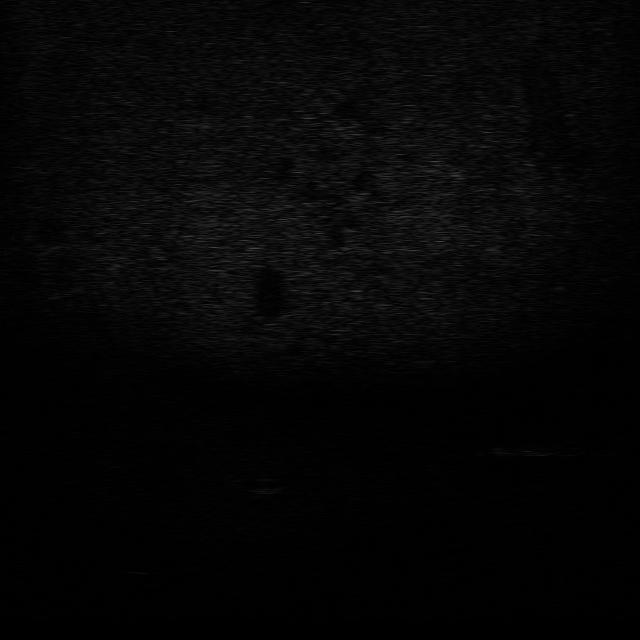ball: (249, 475, 286, 496)
human body: (482, 433, 588, 458)
